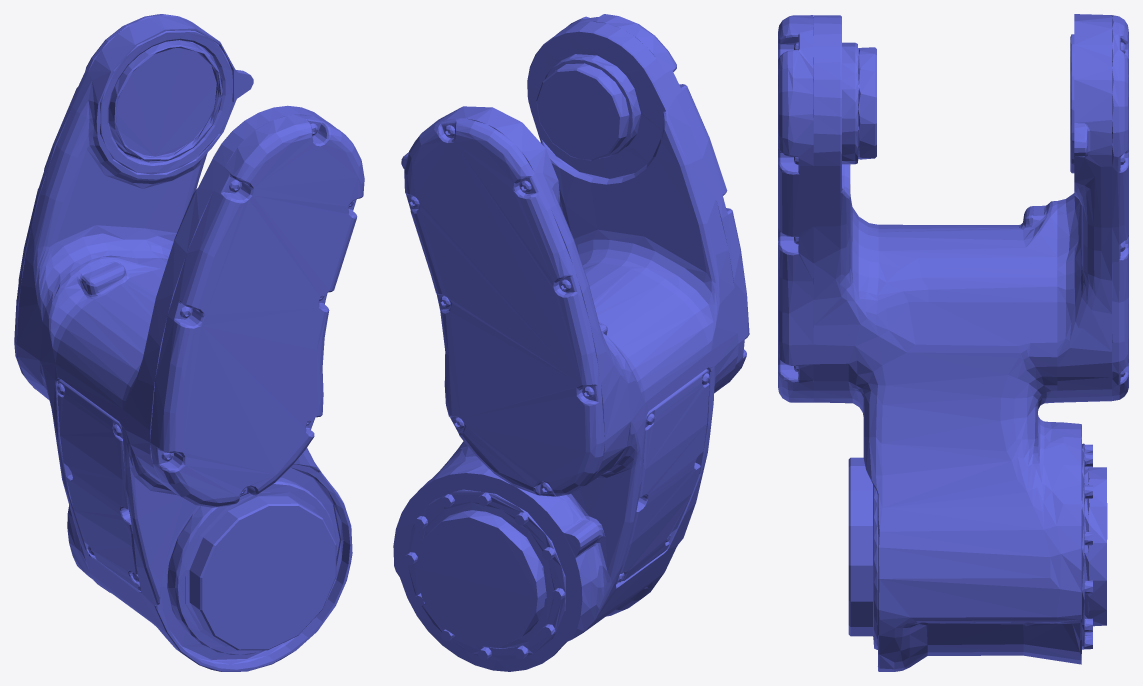
3 renders of one model, left to right at view 1: azimuth 30°, elevation 25°; view 2: azimuth 150°, elevation 25°; view 3: azimuth 270°, elevation 25°, orthographic. The views are drawn at different scales.
Parts seen in each view (by area): view 1: link_2_l; view 2: link_2_l; view 3: link_2_l.
Boxes of the visible parts, left/top/right/bottom form: link_2_l: left=14, top=14, right=364, bottom=671; link_2_l: left=393, top=14, right=749, bottom=671; link_2_l: left=778, top=14, right=1128, bottom=671.
Size of the model in its own units: 0.1595 by 0.1865 by 0.3739.
